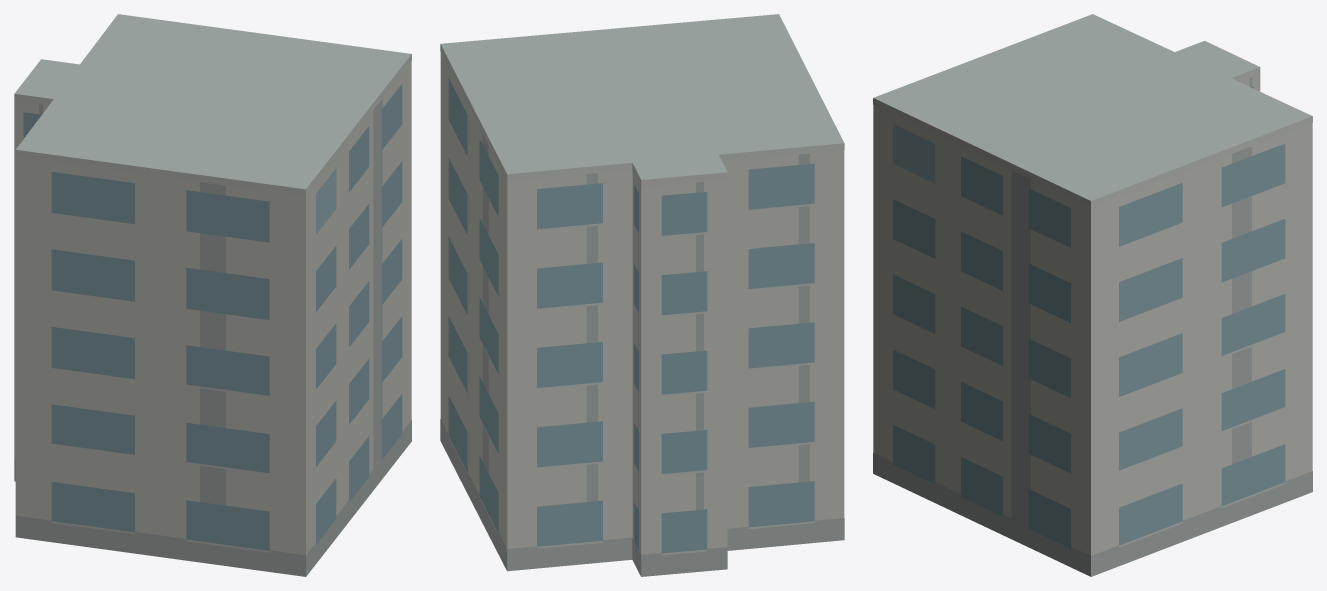
The model's file is survey-upis-32890886.glb.
3 renders of one model, left to right at view 1: azimuth 30°, elevation 25°; view 2: azimuth 150°, elevation 25°; view 3: azimuth 270°, elevation 25°, orthographic. The views are drawn at different scales.
Parts seen in each view (by area): view 1: survey-upis-32890886.tmp; view 2: survey-upis-32890886.tmp; view 3: survey-upis-32890886.tmp.
Boxes of the visible parts, x1,y1,x2,y2 form: survey-upis-32890886.tmp: (14,14,411,576); survey-upis-32890886.tmp: (440,14,844,576); survey-upis-32890886.tmp: (873,14,1312,576).
Bounding box in the file's own units: 14.31 × 13.4 × 14.21.
